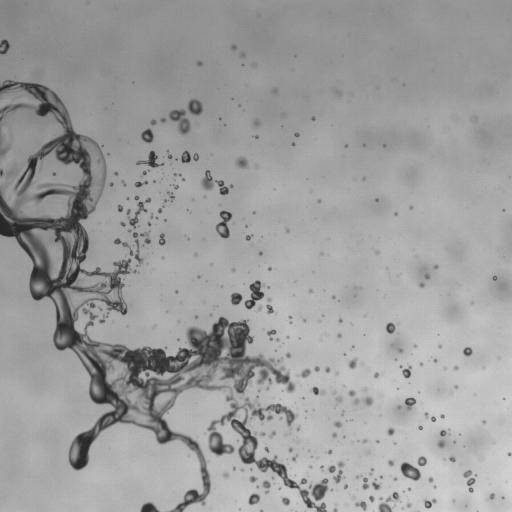droplet: (244, 280, 264, 309), (169, 109, 190, 134), (137, 150, 162, 167), (378, 492, 400, 511), (327, 461, 344, 483), (400, 462, 420, 480), (188, 99, 202, 115), (181, 151, 198, 163), (141, 128, 153, 142), (235, 156, 248, 168), (230, 292, 242, 305), (400, 364, 411, 378), (248, 493, 259, 505), (405, 397, 415, 410), (0, 40, 9, 54), (297, 368, 310, 377), (423, 499, 436, 508), (385, 322, 395, 333), (371, 479, 381, 490), (141, 231, 150, 243), (262, 480, 270, 493), (267, 329, 276, 340), (348, 358, 357, 369), (355, 501, 366, 510), (417, 456, 426, 466), (463, 347, 472, 356), (363, 396, 372, 405), (159, 233, 165, 245), (266, 304, 274, 313), (281, 496, 289, 505), (387, 427, 394, 435), (440, 430, 448, 436), (249, 476, 257, 482), (245, 234, 252, 240), (348, 390, 355, 396), (334, 421, 341, 427), (438, 440, 444, 447), (387, 460, 394, 466), (253, 120, 259, 126), (117, 205, 123, 211), (256, 305, 262, 311), (336, 396, 342, 402), (353, 398, 359, 404), (269, 431, 275, 437), (449, 456, 455, 462), (488, 493, 494, 499), (150, 120, 156, 125), (374, 372, 379, 378), (369, 495, 374, 501), (142, 171, 147, 176), (157, 208, 162, 213), (314, 366, 319, 371), (325, 367, 330, 372), (264, 447, 269, 452), (223, 472, 228, 477), (428, 477, 433, 482), (406, 502, 411, 507), (332, 506, 337, 511), (271, 89, 277, 93), (369, 468, 373, 474), (231, 45, 236, 49), (240, 53, 245, 57), (197, 61, 202, 65), (336, 90, 340, 95), (173, 185, 178, 189), (120, 222, 125, 226), (425, 274, 429, 279), (419, 283, 424, 287), (286, 352, 290, 357), (453, 366, 458, 370), (332, 432, 336, 437), (292, 455, 296, 460), (326, 450, 332, 453), (161, 118, 165, 122), (109, 182, 113, 186), (434, 265, 438, 269), (337, 333, 341, 337), (398, 348, 402, 352), (440, 414, 444, 418), (260, 432, 264, 436), (472, 117, 477, 120), (289, 447, 292, 452), (295, 133, 299, 136), (168, 154, 171, 158), (122, 181, 125, 185), (150, 214, 154, 217), (286, 228, 289, 232), (375, 250, 379, 253), (493, 276, 496, 280), (397, 405, 401, 408), (296, 427, 300, 430), (363, 439, 367, 442), (344, 484, 347, 488), (312, 117, 315, 120), (254, 135, 257, 138), (114, 172, 117, 175), (268, 267, 271, 270), (309, 289, 312, 292), (268, 298, 271, 301), (339, 319, 342, 322), (276, 338, 279, 341), (454, 385, 457, 388), (419, 426, 422, 429), (508, 452, 511, 455), (320, 466, 323, 469), (394, 477, 397, 480), (39, 166, 41, 169), (182, 178, 184, 181), (148, 222, 150, 225), (259, 252, 262, 254), (175, 290, 177, 293), (332, 296, 335, 298), (99, 307, 101, 310), (195, 315, 197, 318), (289, 316, 291, 319), (303, 319, 305, 322), (414, 344, 416, 347), (438, 345, 441, 347), (434, 359, 436, 362), (420, 362, 422, 365), (335, 372, 338, 374), (333, 391, 336, 393), (309, 465, 311, 468), (292, 143, 294, 145), (230, 185, 232, 187), (318, 200, 320, 202), (410, 206, 412, 208), (232, 269, 234, 271), (359, 362, 361, 364), (483, 420, 485, 422), (279, 487, 281, 489), (408, 488, 410, 490)
ligament: (0, 83, 327, 511), (126, 196, 151, 228), (201, 170, 228, 195), (130, 232, 143, 265), (216, 210, 231, 238), (463, 470, 475, 492), (0, 135, 10, 157), (356, 474, 368, 489), (140, 502, 159, 511), (114, 238, 130, 248), (310, 386, 325, 395), (6, 167, 19, 176), (425, 412, 436, 421), (135, 181, 147, 187), (99, 314, 107, 323), (168, 192, 174, 201), (0, 169, 4, 176), (174, 173, 180, 176), (414, 510, 418, 511), (260, 510, 263, 511)
